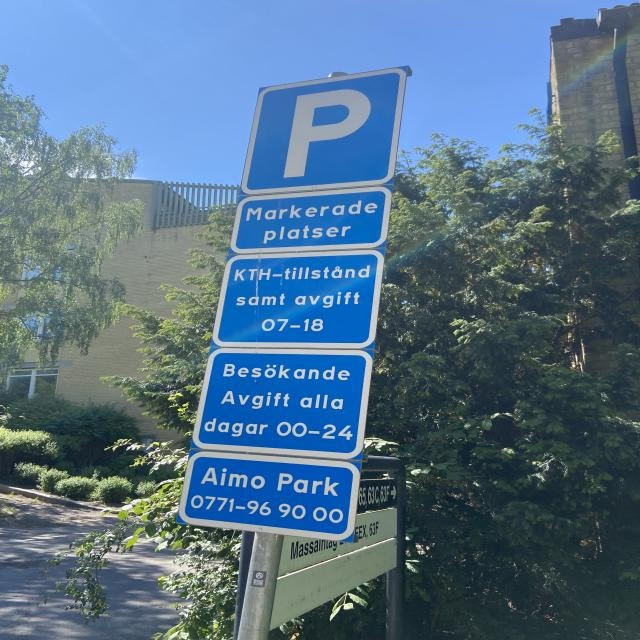P-skylt: (254, 80, 392, 184)
